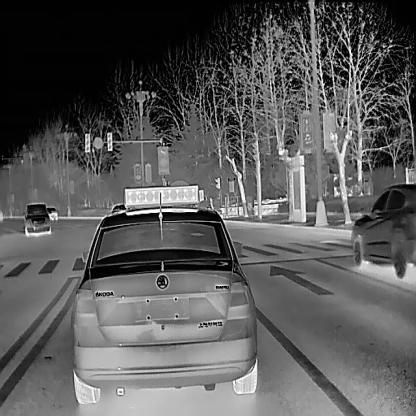car: (70, 184, 257, 403), (350, 182, 415, 284), (23, 202, 50, 236), (46, 206, 58, 221)
